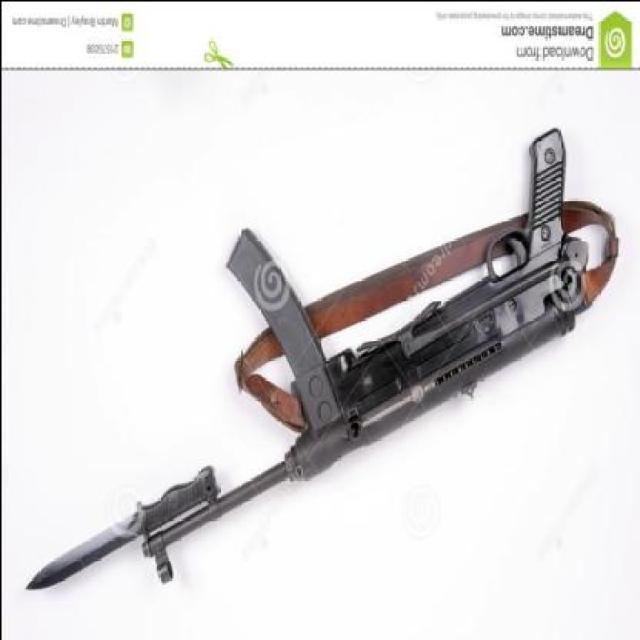weapon: (25, 126, 619, 589)
